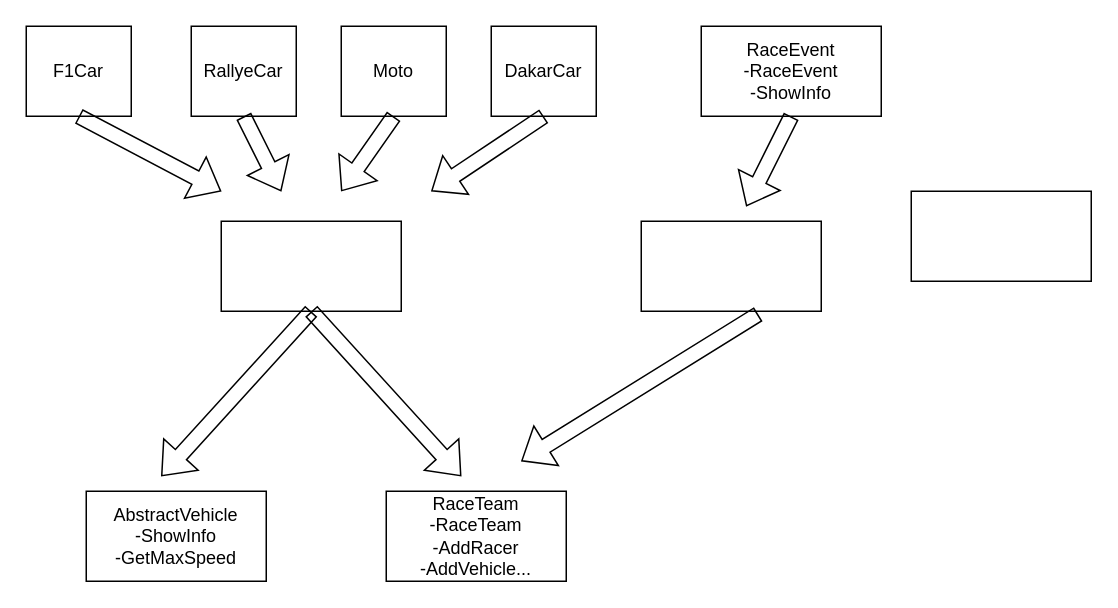
Some shapes in this 1118 by 608 pixel diagram are drawn without their labels. Here are the shapes that lost their labels. From the top down, the centre of each, then its label:
pixel 1000 235: Statistics -AddWin -AddRace -SetRaceDetails...
pixel 310 265: Vehicle -Vehicle -ShowInfo -GetMaxSpeed
pixel 730 265: Racer -Racer -ShowInfo
